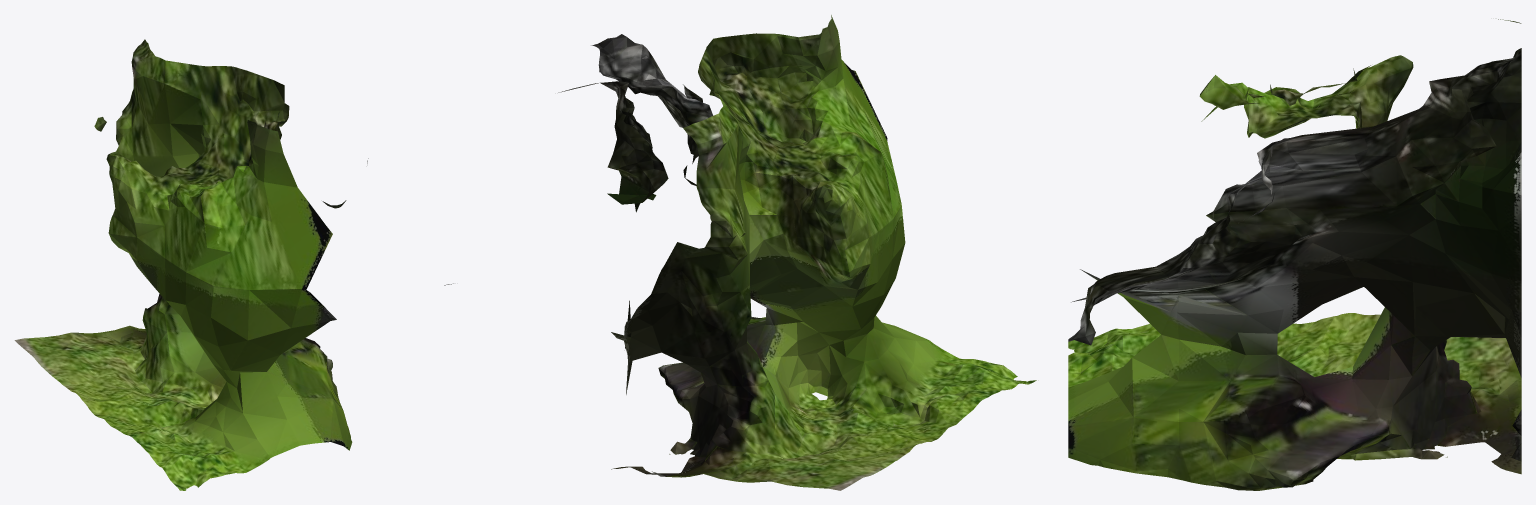
3 renders of one model, left to right at view 1: azimuth 30°, elevation 25°; view 2: azimuth 150°, elevation 25°; view 3: azimuth 270°, elevation 25°, orthographic. The views are drawn at different scales.
Size of the model in its own units: 3.35 by 3.35 by 3.35.
Materials: 6 (6 with a texture image).
